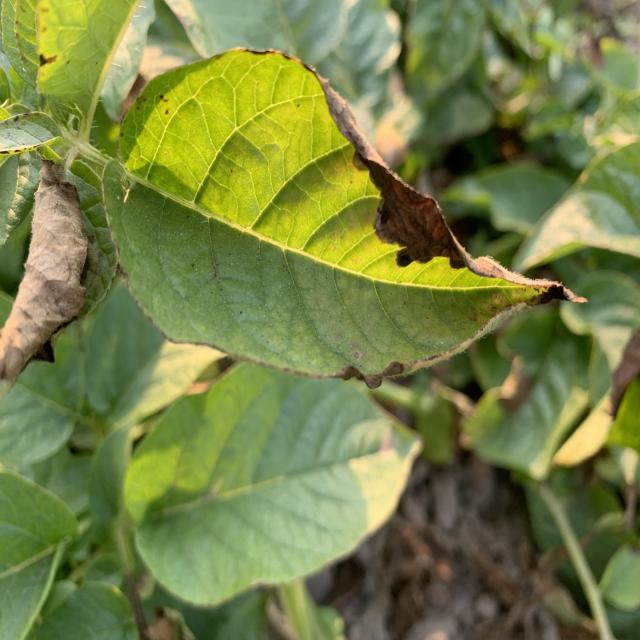lateblight: (310, 70, 579, 302), (0, 160, 88, 403), (340, 362, 405, 388)
